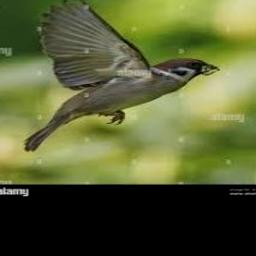Sparrow: (24, 0, 219, 151)
